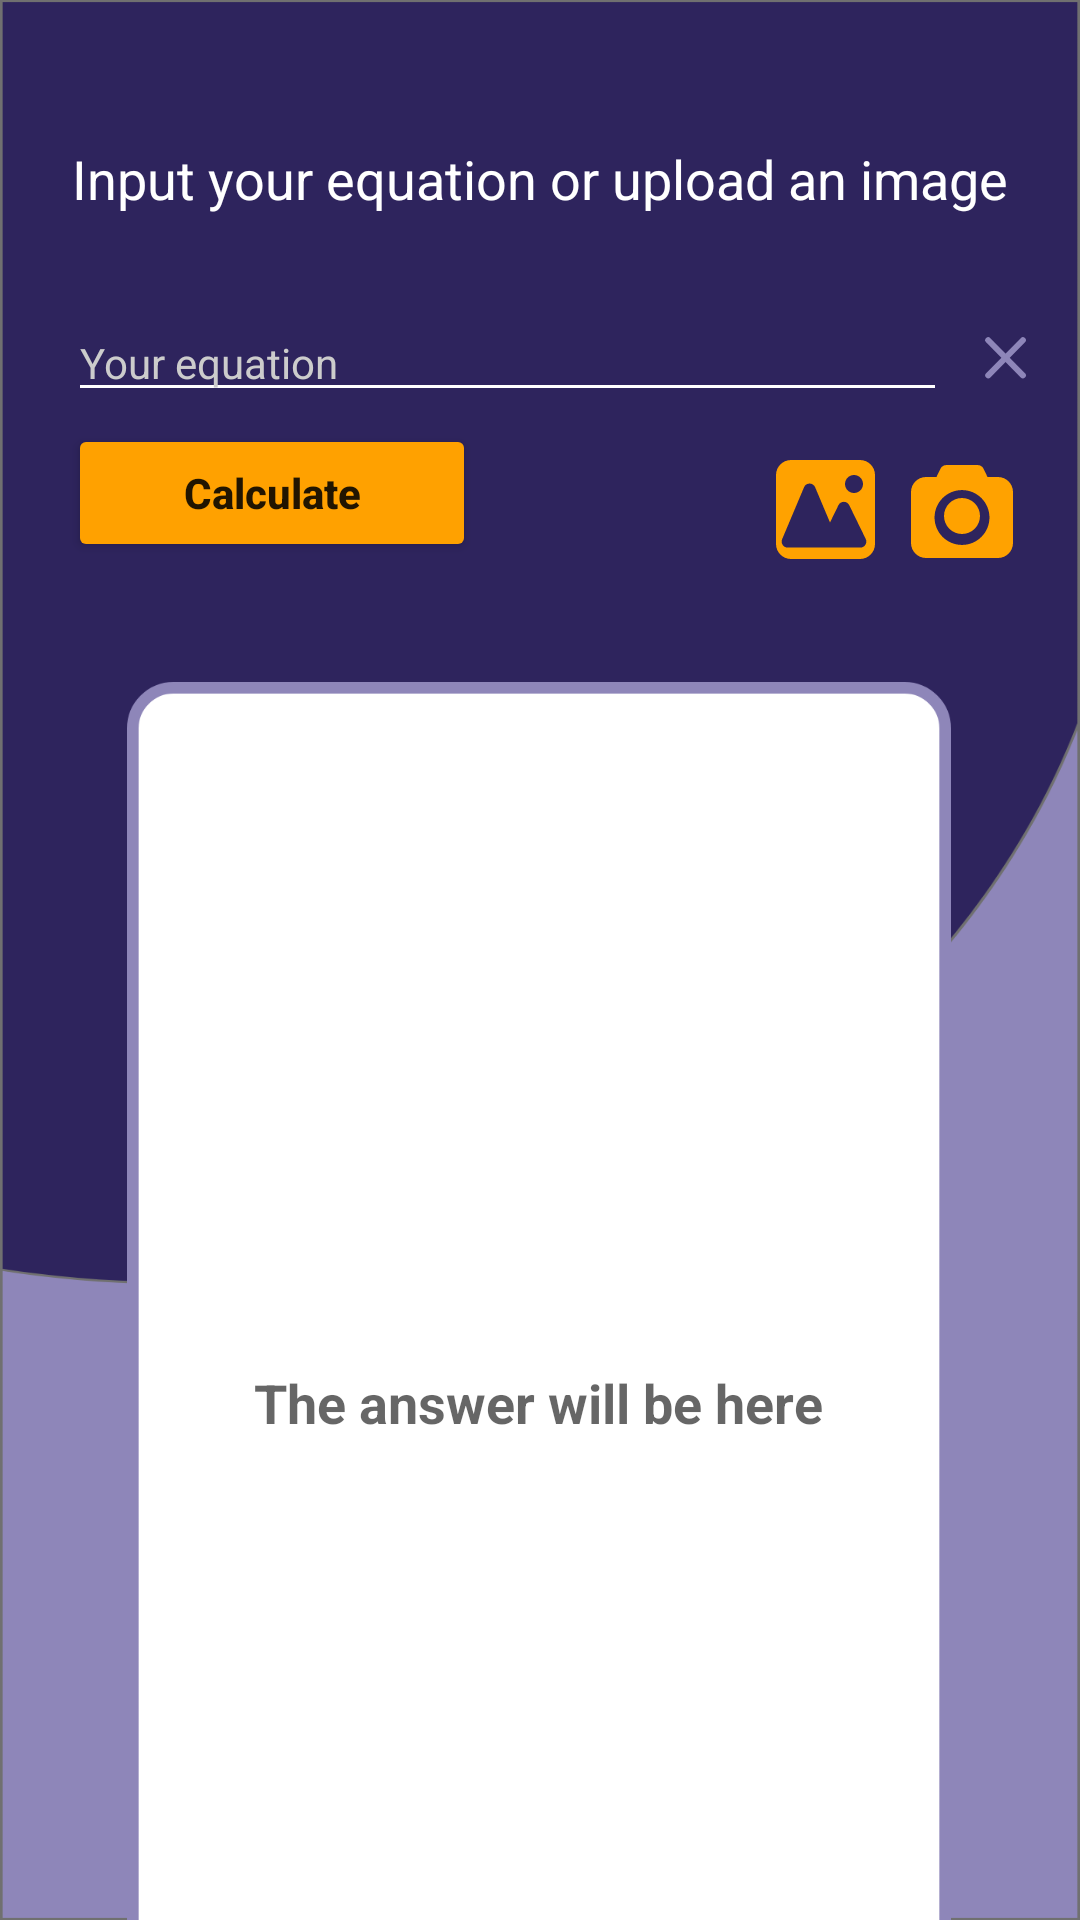

Icons on this 1080 × 1920 Android screen, each with its box as (x1, y1, x2, y2):
Capture image: (911, 465, 1013, 558)
Clear the input field: (985, 337, 1026, 379)
Upload an image from device: (776, 460, 875, 559)
